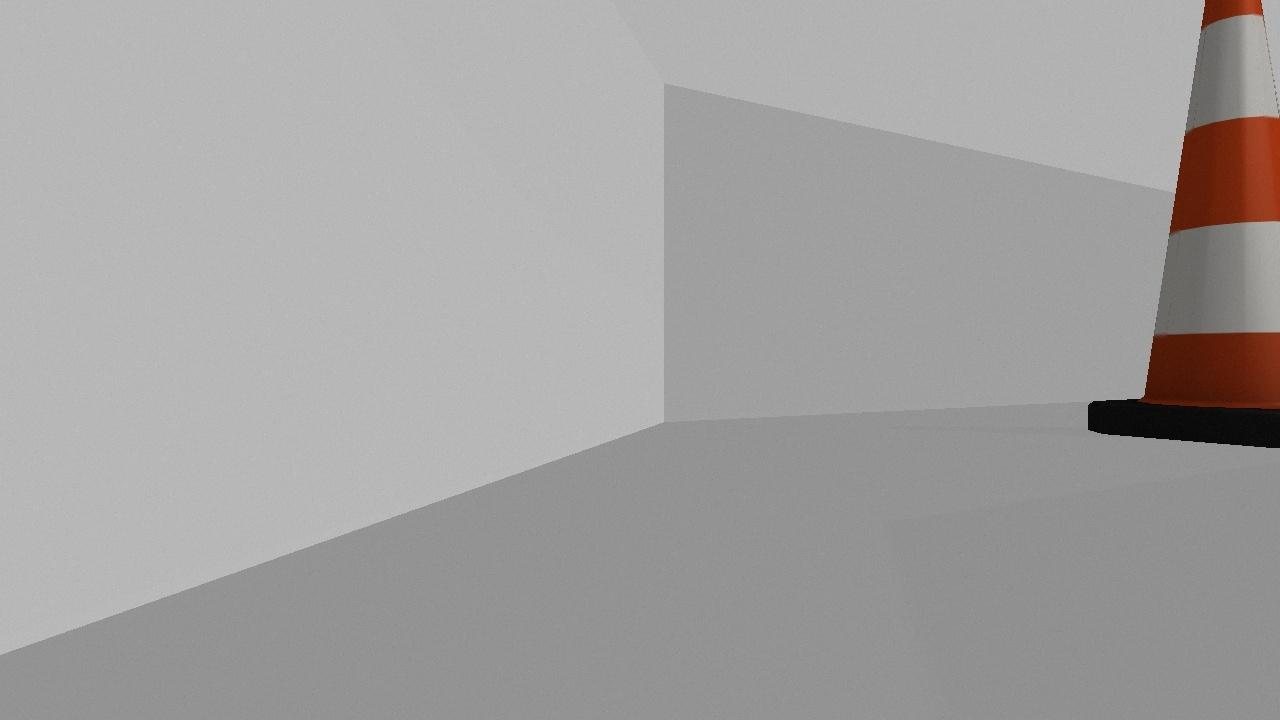cone_barrel: (1085, 0, 1279, 446)
